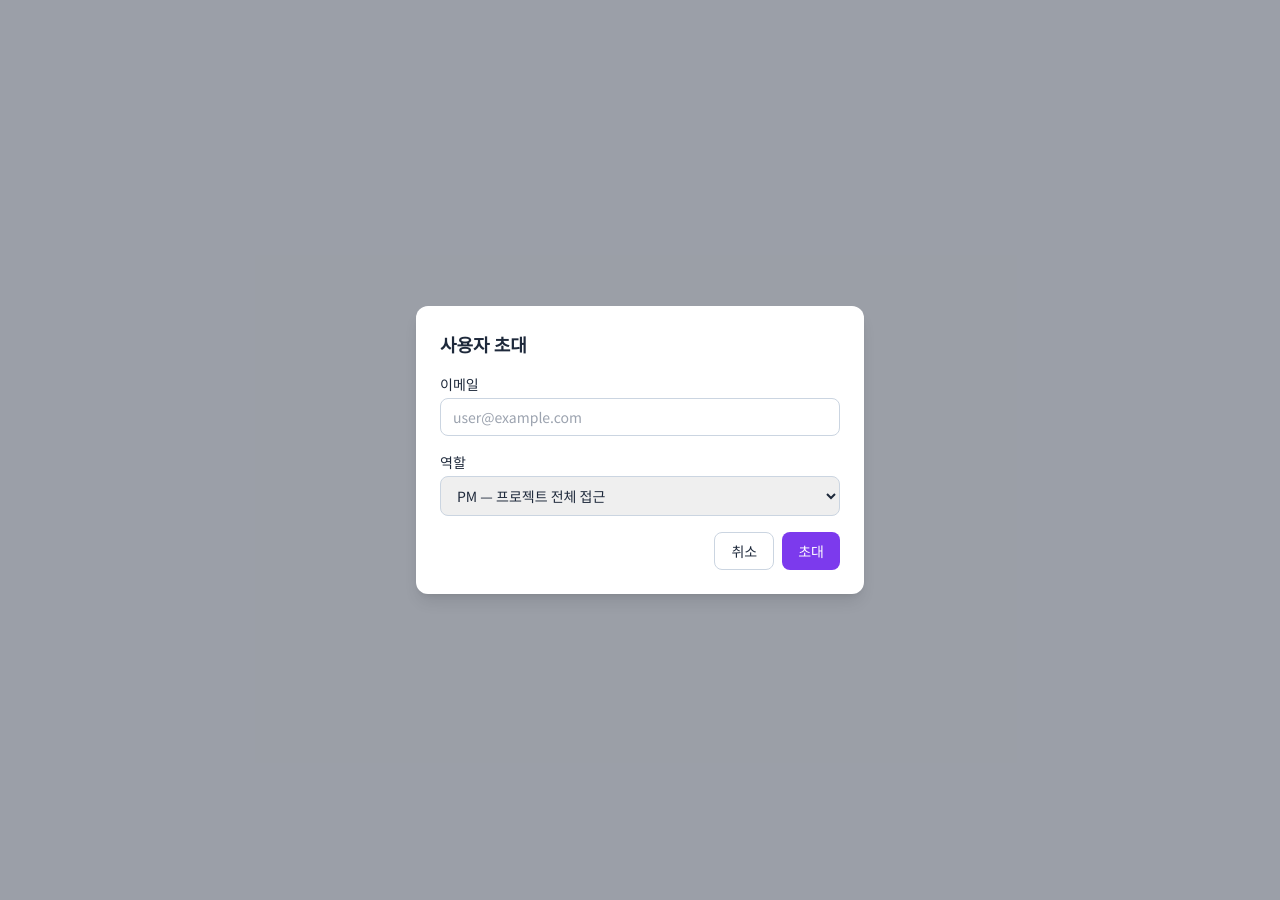
Test case: InviteUserModal › invites a user and reveals the temp password once
The image size is (1280, 900).
Step 1. Type "new@example.com" into the field labelled "이메일" → (640, 417), box [440,398,840,436]
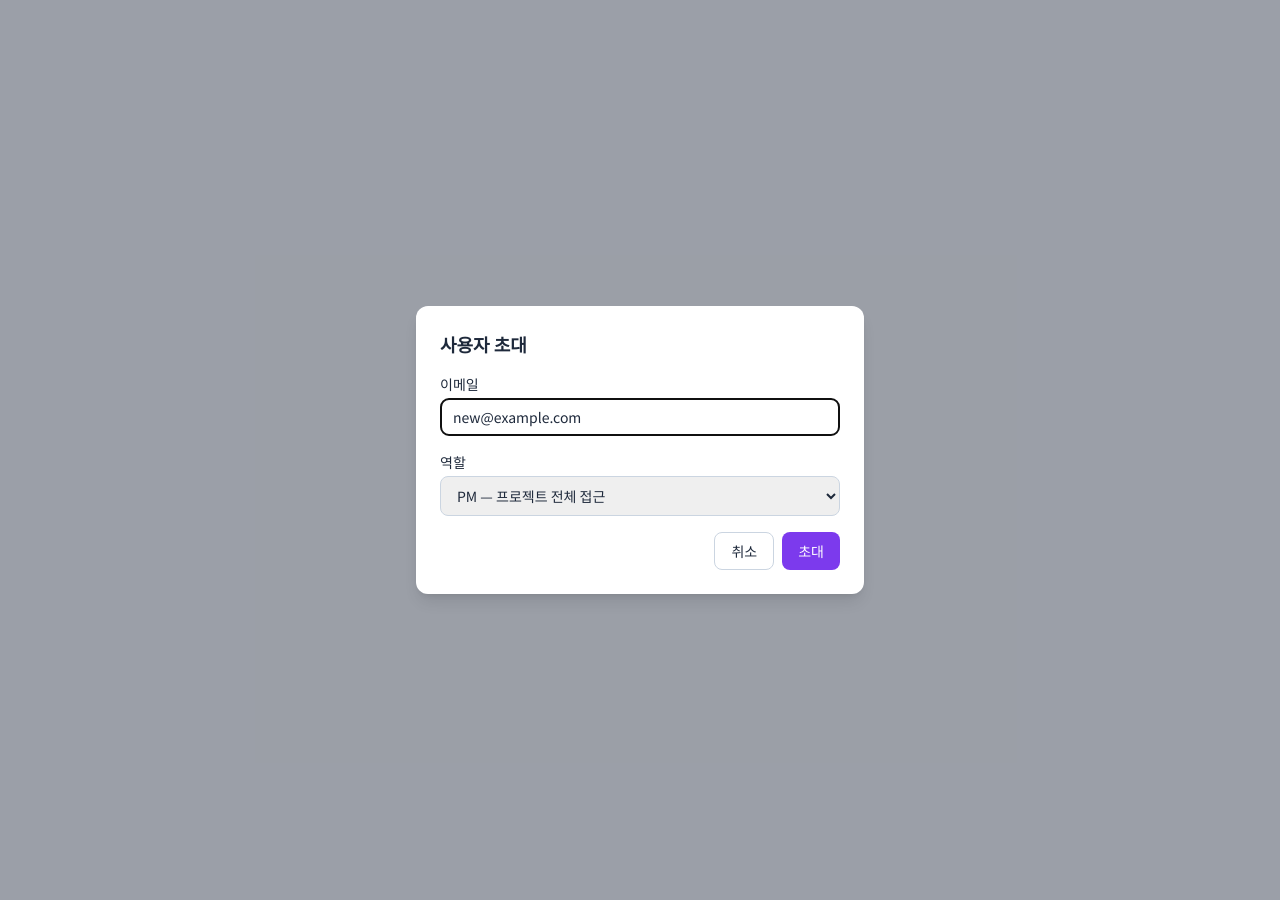
Step 2. Click the button "초대" → (811, 551), box [782,532,840,570]
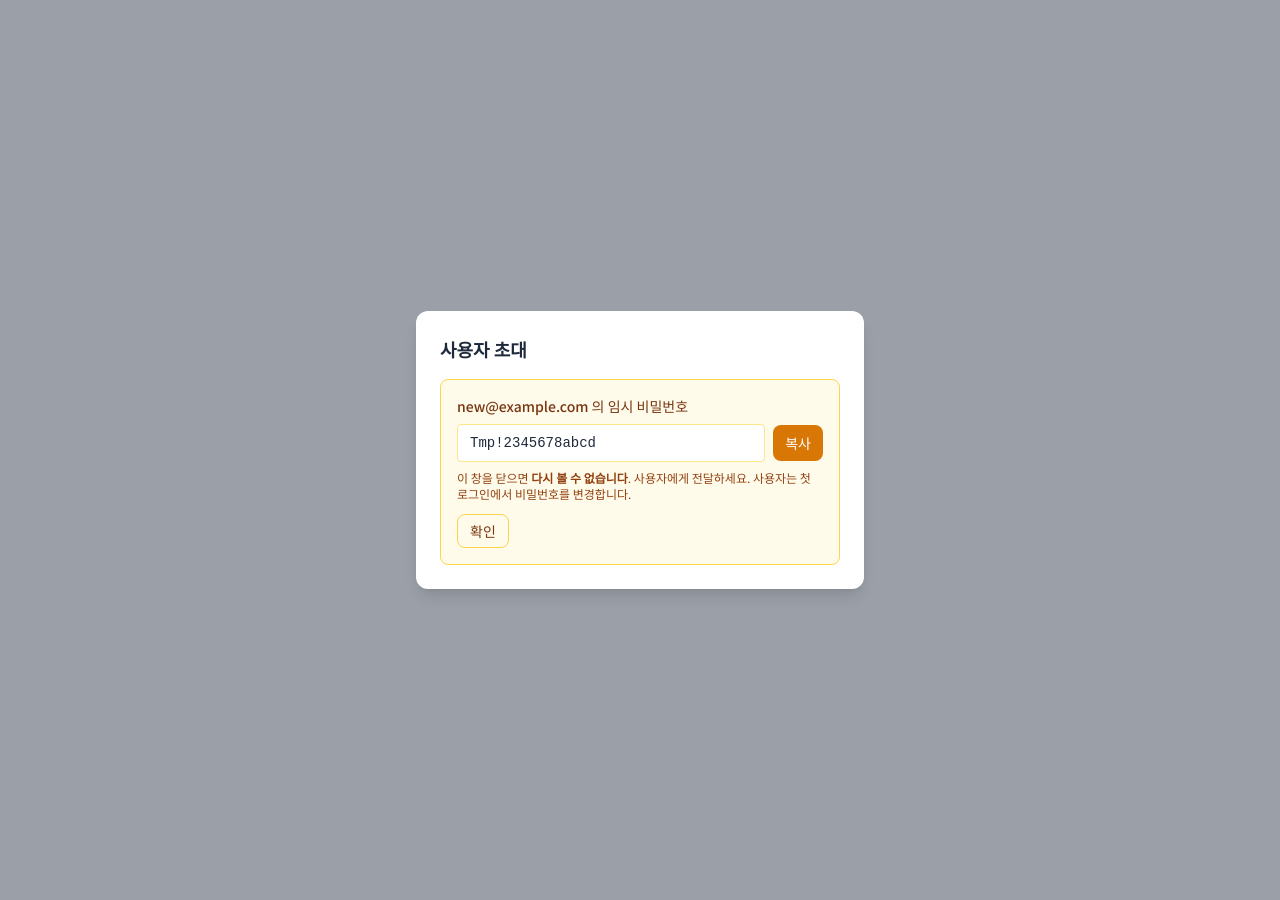
Result: the text "Tmp!2345678abcd" is shown at [457,424,765,462]
